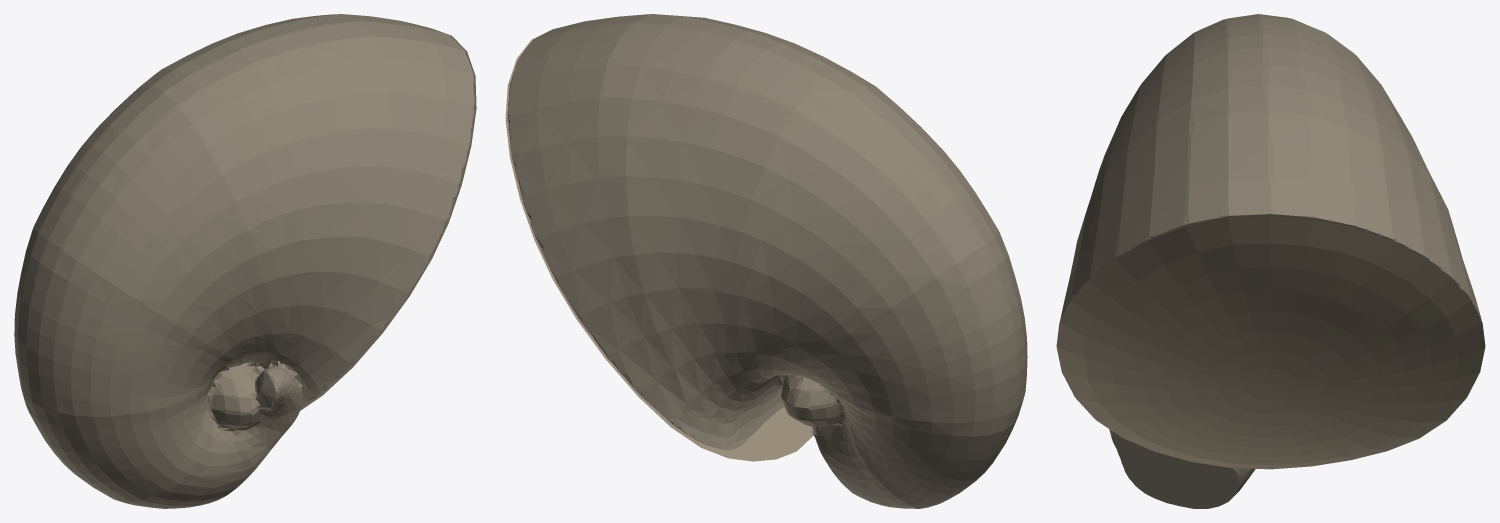
3 renders of one model, left to right at view 1: azimuth 30°, elevation 25°; view 2: azimuth 150°, elevation 25°; view 3: azimuth 270°, elevation 25°, orthographic. The views are drawn at different scales.
Parts seen in each view (by area): view 1: LV-attached-involute-valve, RV-complete-shallow-closing-valve; view 2: LV-attached-involute-valve, RV-complete-shallow-closing-valve; view 3: RV-complete-shallow-closing-valve, LV-attached-involute-valve.
Boxes of the visible parts, x1,y1,x2,y2 form: LV-attached-involute-valve: (14, 14, 474, 508); RV-complete-shallow-closing-valve: (300, 28, 476, 410); LV-attached-involute-valve: (507, 14, 1027, 508); RV-complete-shallow-closing-valve: (505, 29, 813, 461); RV-complete-shallow-closing-valve: (1056, 216, 1485, 469); LV-attached-involute-valve: (1060, 14, 1481, 508).
Size of the model in its own units: 0.06 by 0.0547 by 0.0405.
